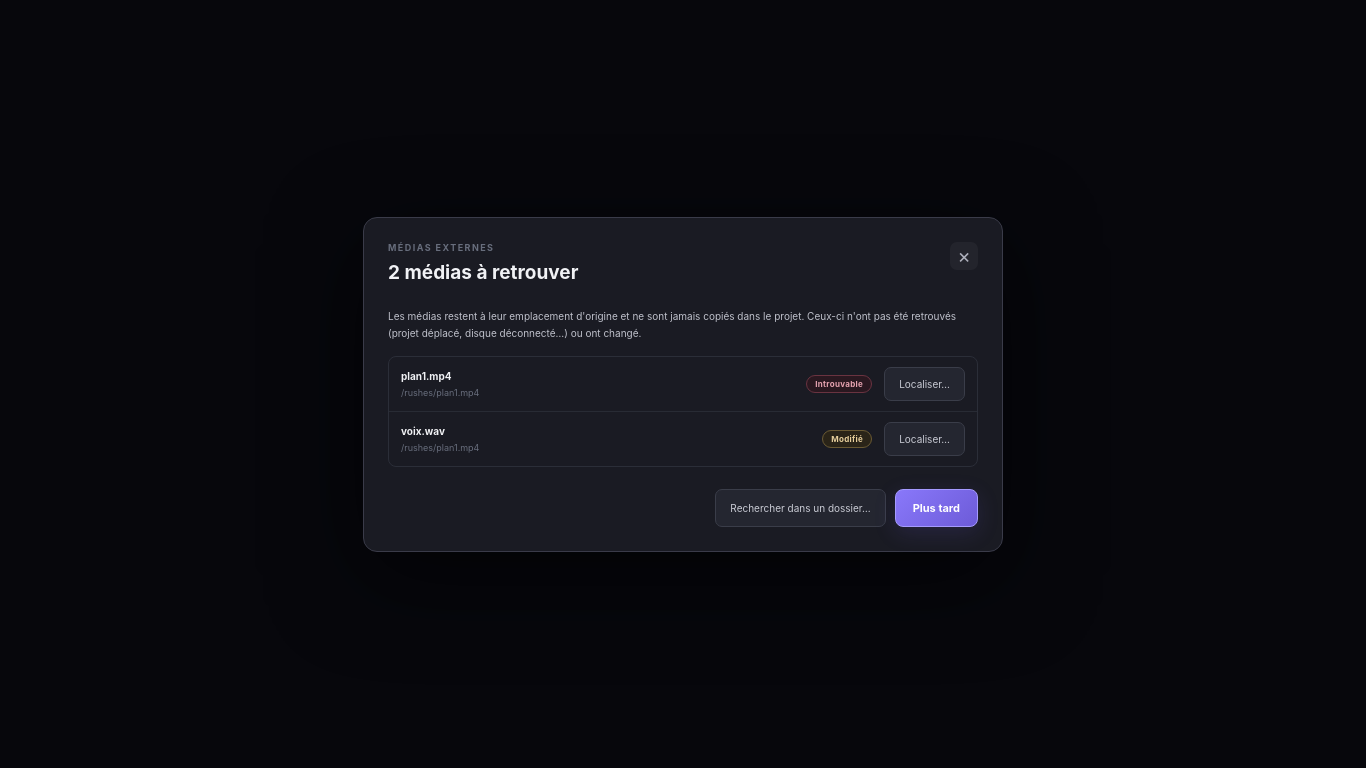
MissingMediaDialog › annonce le résultat de la recherche dans un dossier
The image size is (1366, 768).
Step 1. Click the button "Rechercher dans un dossier…" → coordinates (801, 508), box [715,488,886,526]
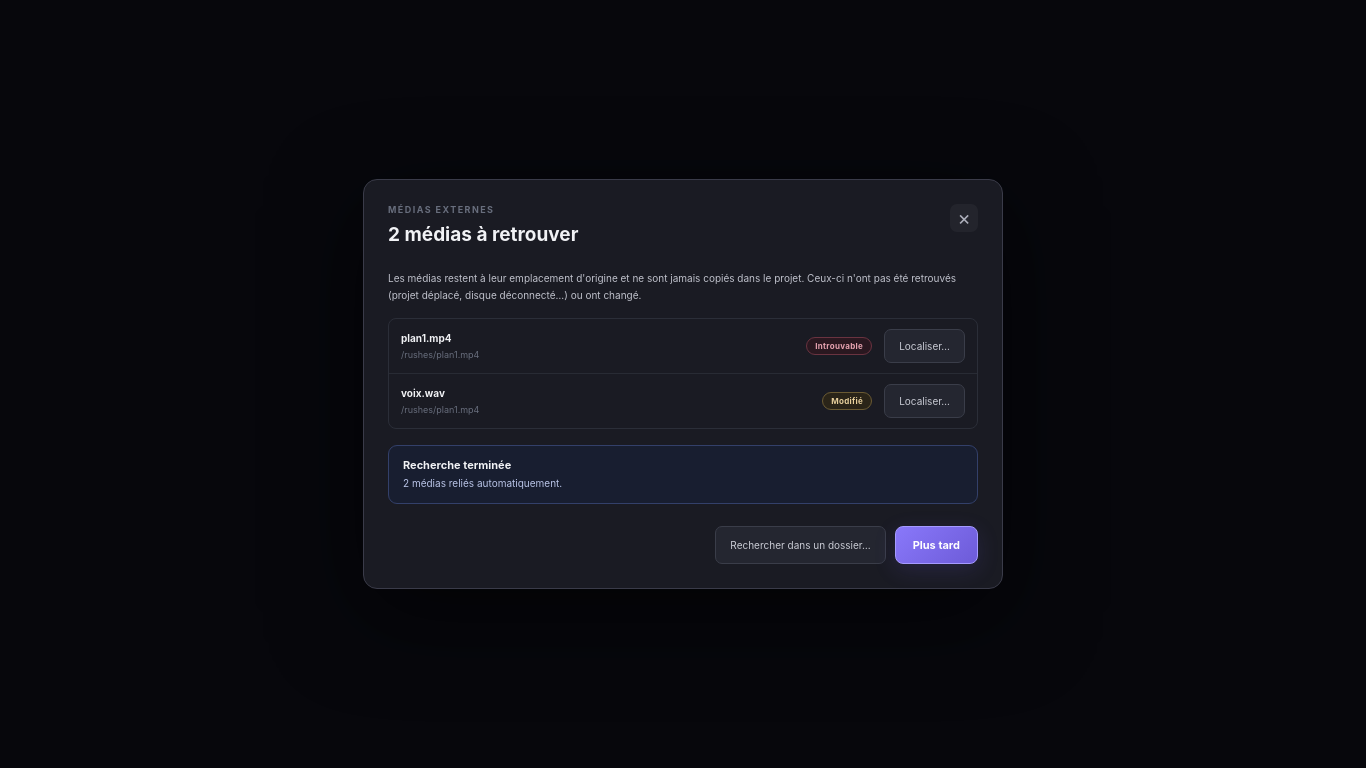
Expected: the text "2 médias reliés automatiquement." is shown, [403,476,562,491]
